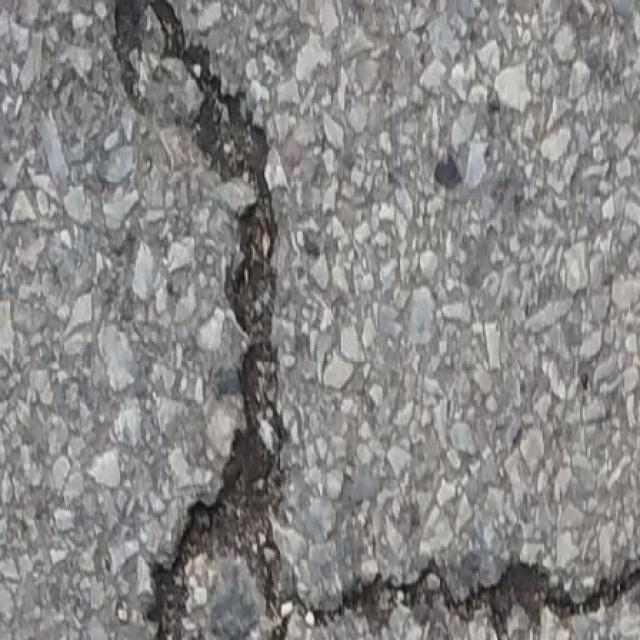multi-branched crack: (117, 0, 639, 640)
